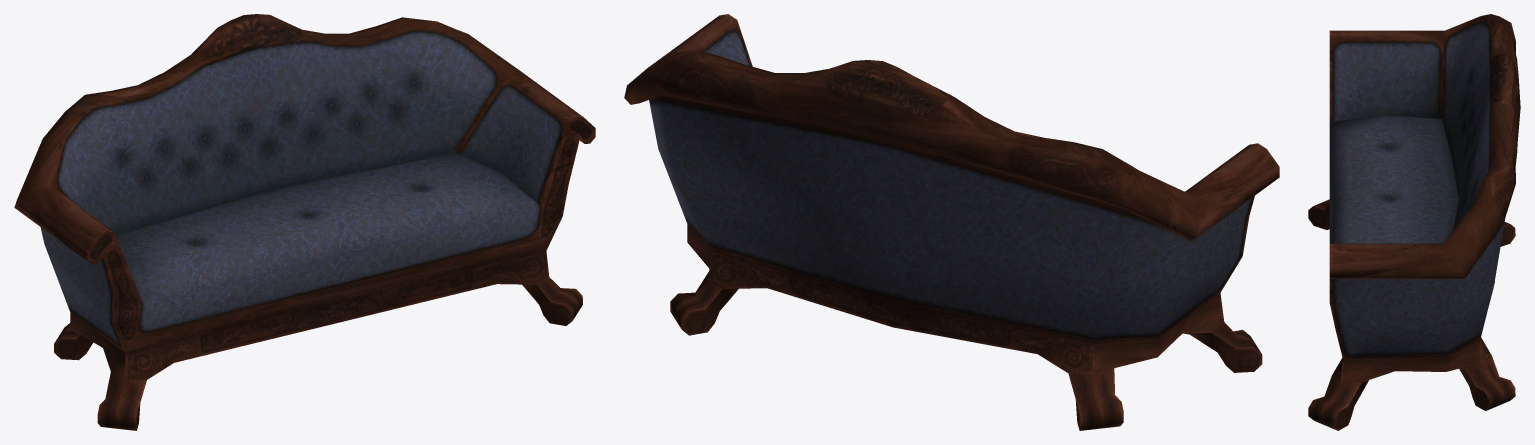
File: sofa_alt_blue.dae
3 renders of one model, left to right at view 1: azimuth 30°, elevation 25°; view 2: azimuth 150°, elevation 25°; view 3: azimuth 270°, elevation 25°, orthographic. The views are drawn at different scales.
Visible parts, largest first — view 1: polySurface2; view 2: polySurface2; view 3: polySurface2.
Part boxes in pixels (bbox=[...]): polySurface2: bbox=[14, 14, 595, 430]; polySurface2: bbox=[624, 14, 1279, 430]; polySurface2: bbox=[1308, 14, 1520, 430].
Size of the model in its own units: 2.4 by 1.29 by 0.9348.
Materials: 1 (1 with a texture image).
